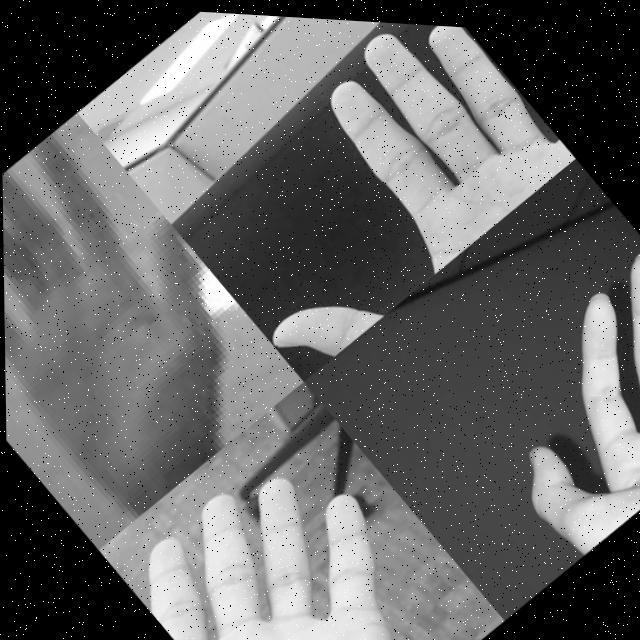no-gloves: (159, 8, 578, 386), (1, 108, 304, 532), (112, 412, 476, 640), (446, 228, 640, 556)
